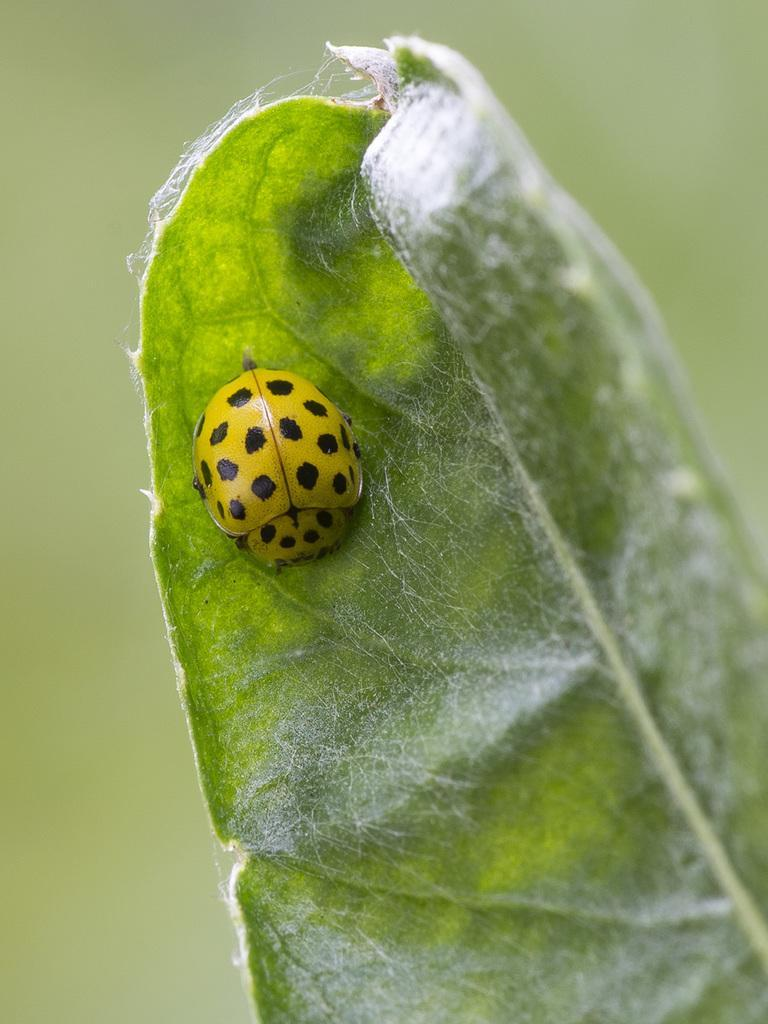ladybug: (189, 354, 371, 579)
